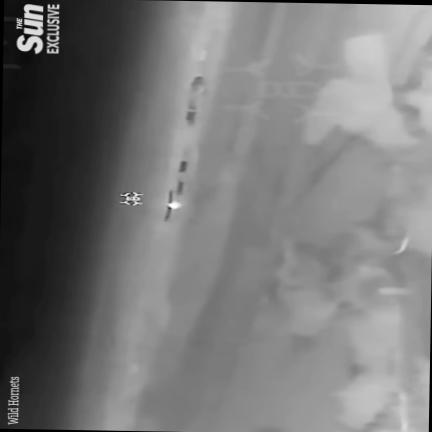Shahed: (164, 190, 180, 220)
